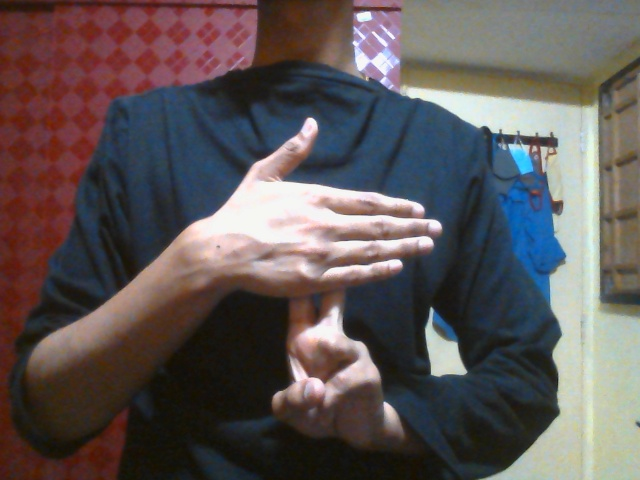N: (213, 116, 442, 455)
